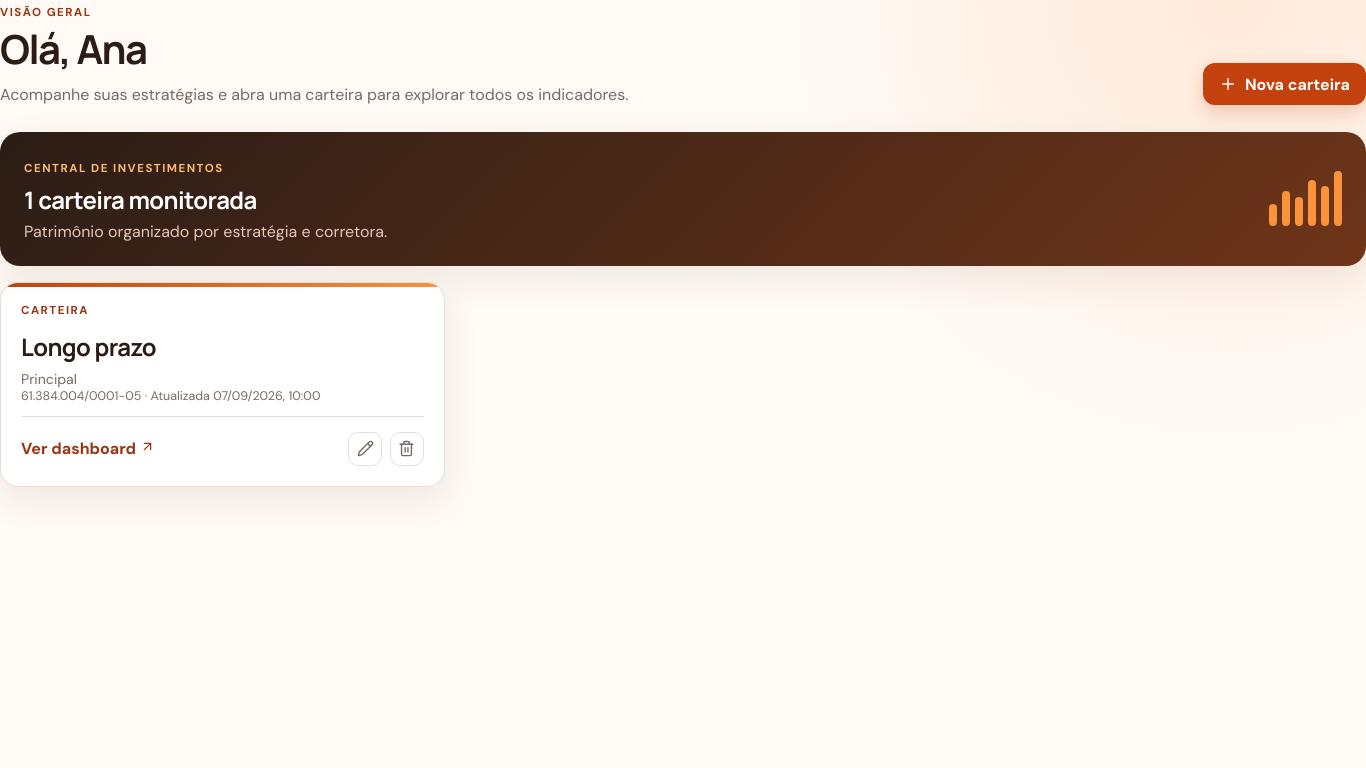
Test: edita nome e corretora e atualiza o cartão sem recarregar a página
Click the button named "Editar Longo prazo".
click(366, 449)  # box [348,432,382,466]
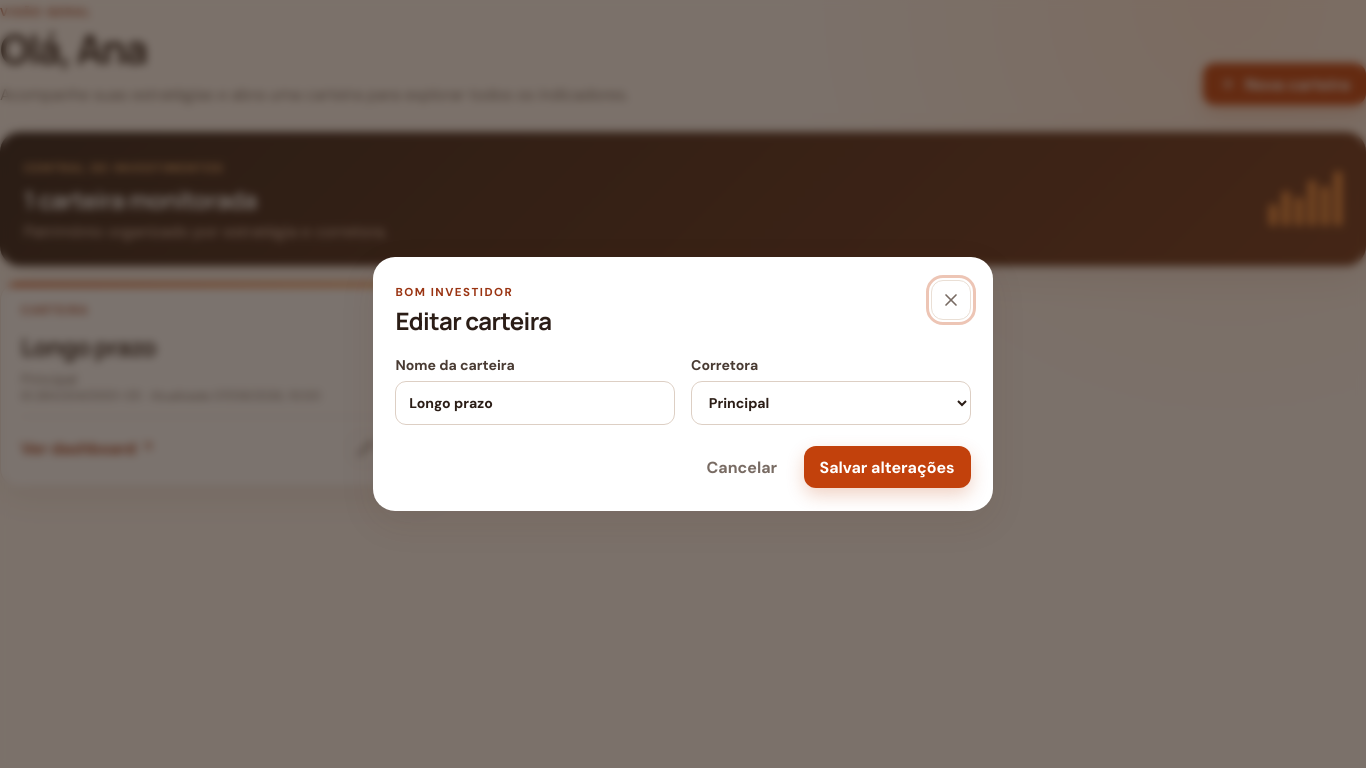
Check: the field labelled "Nome da carteira" holds "Longo prazo"
Check: the dropdown labelled "Corretora" shows "Principal", box [691,381,971,425]
Replace the text in the field labelled "Nome da carteira" with "Reserva global" at x=535, y=403, box [395,381,675,425]
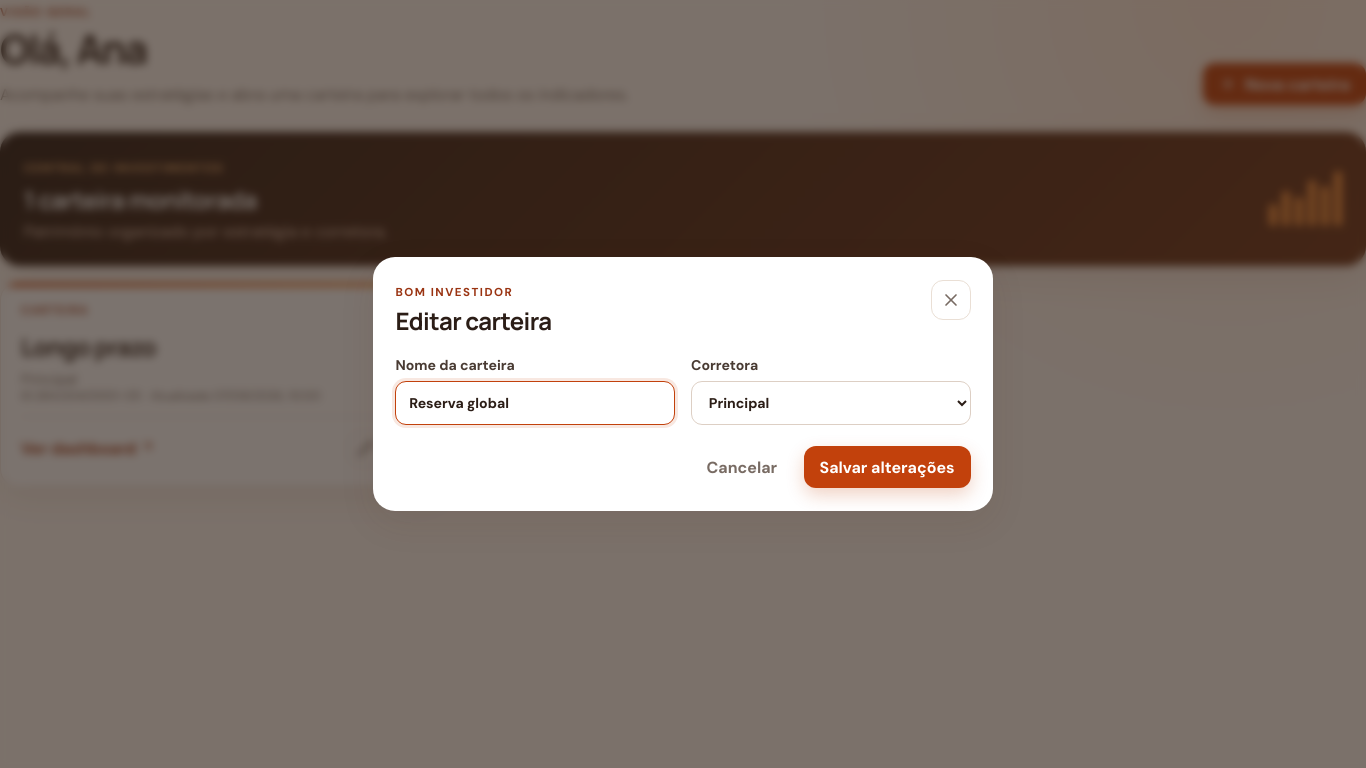
Select "Internacional" in the dropdown labelled "Corretora" at x=831, y=403, box [691,381,971,425]
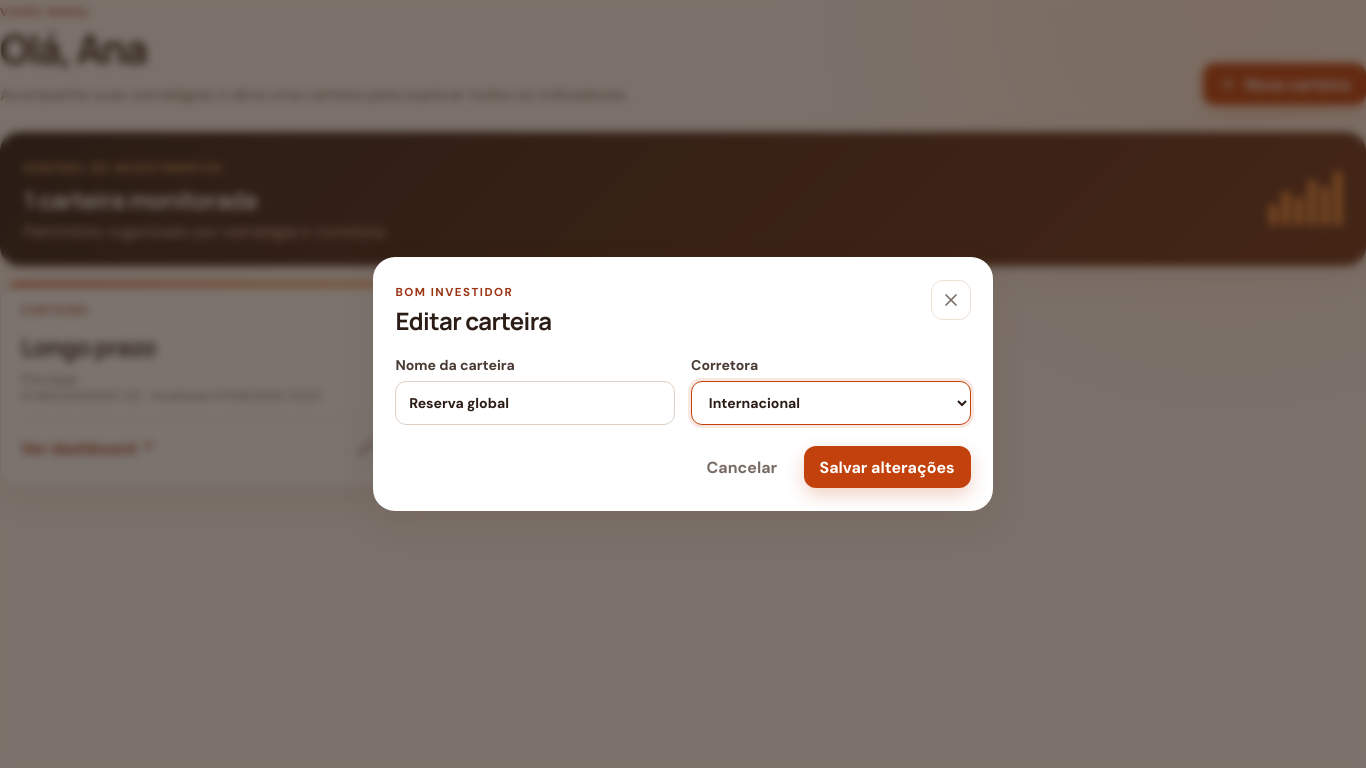
Click the button "Salvar alterações".
click(887, 467)  # box [804,446,971,488]
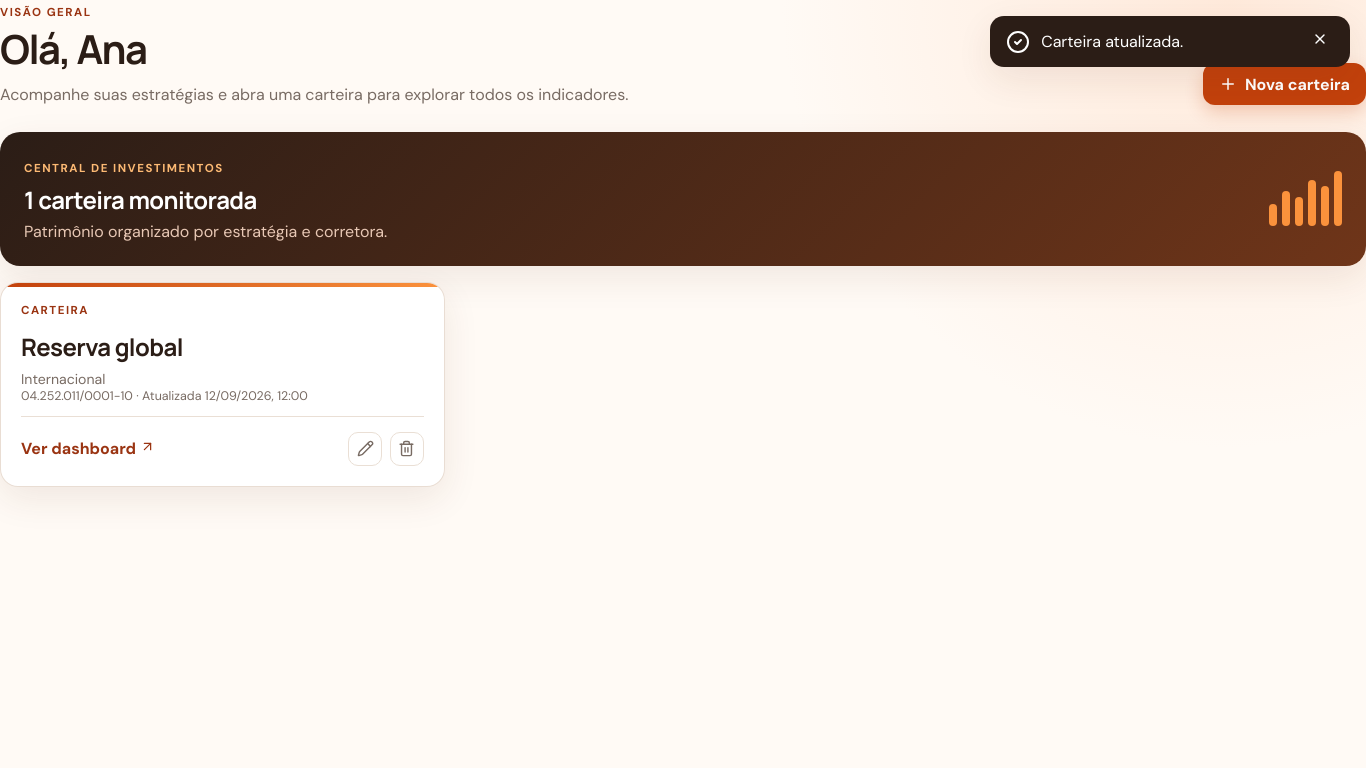
Check: the heading "Reserva global" is shown, box [21,330,183,363]
Check: the text "Internacional" is shown, box [21,370,105,388]
